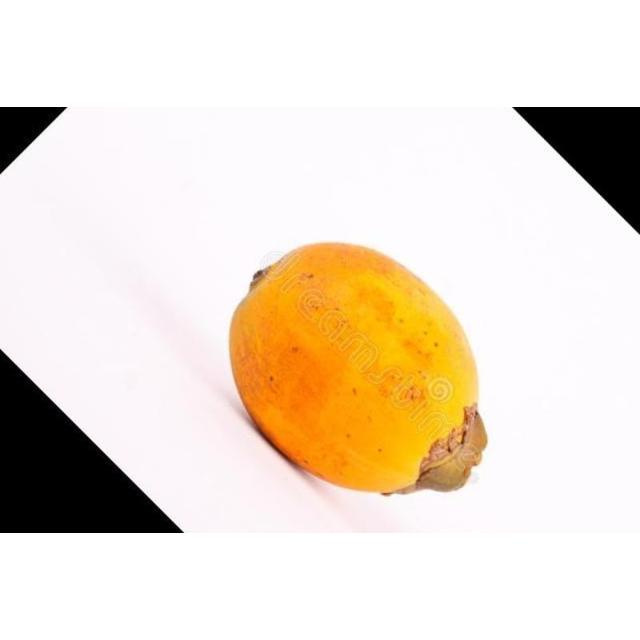good: (229, 243, 489, 497)
